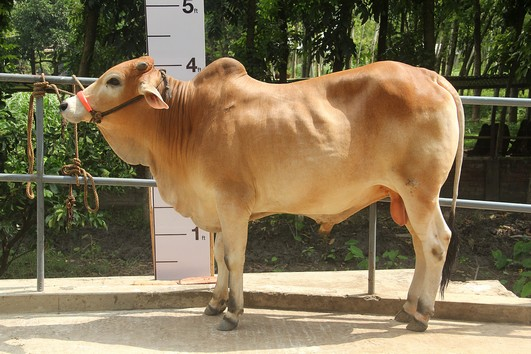cow: (53, 45, 471, 335)
